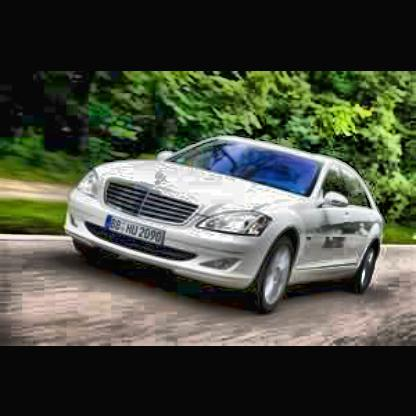Mercedes-Benz S-Class Sedan 2012: (64, 138, 384, 316)
